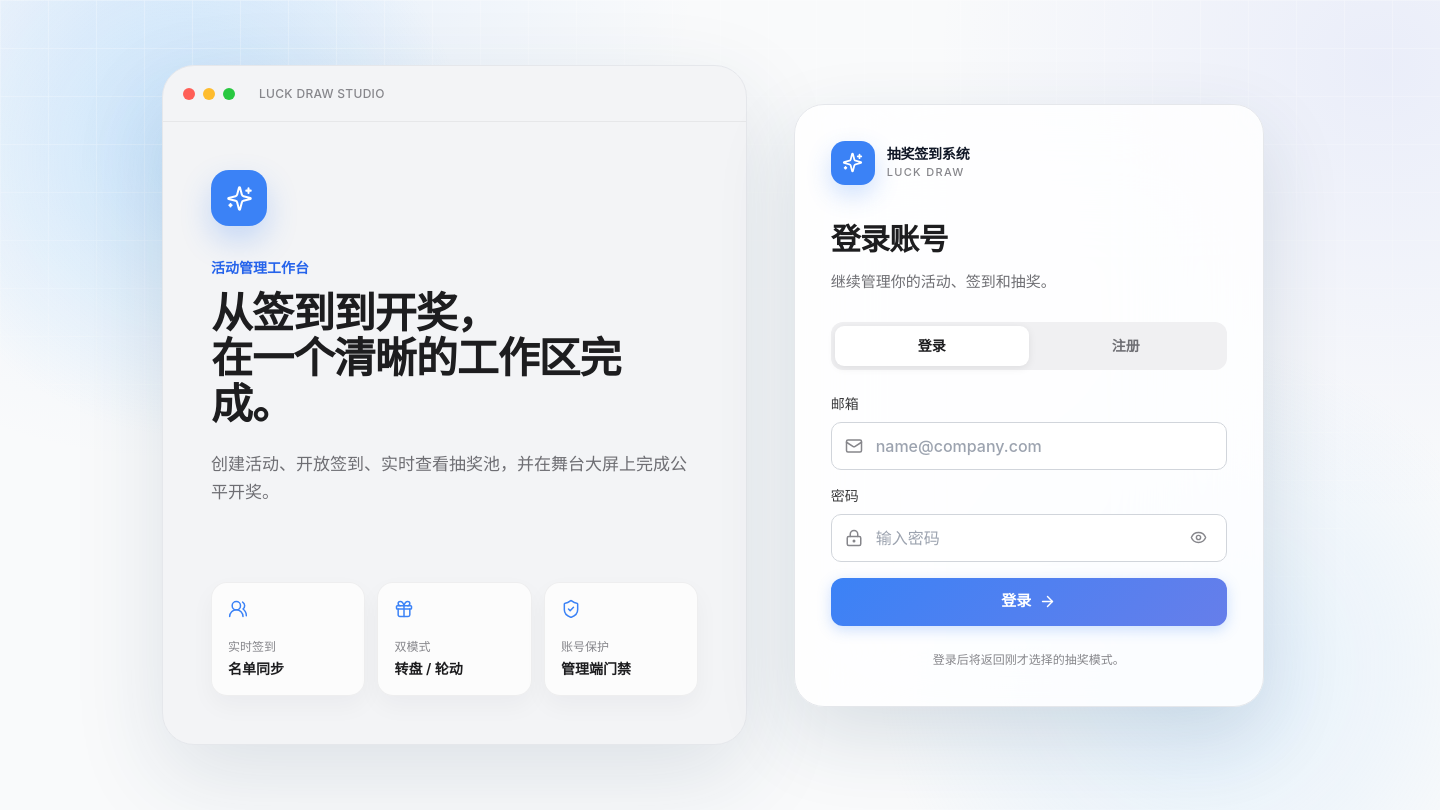
Test: LoginPage › shows a friendly message when login credentials are invalid
Step 1. Type "user@example.com" into the field labelled "邮箱" → (1029, 446), box [831,422,1227,470]
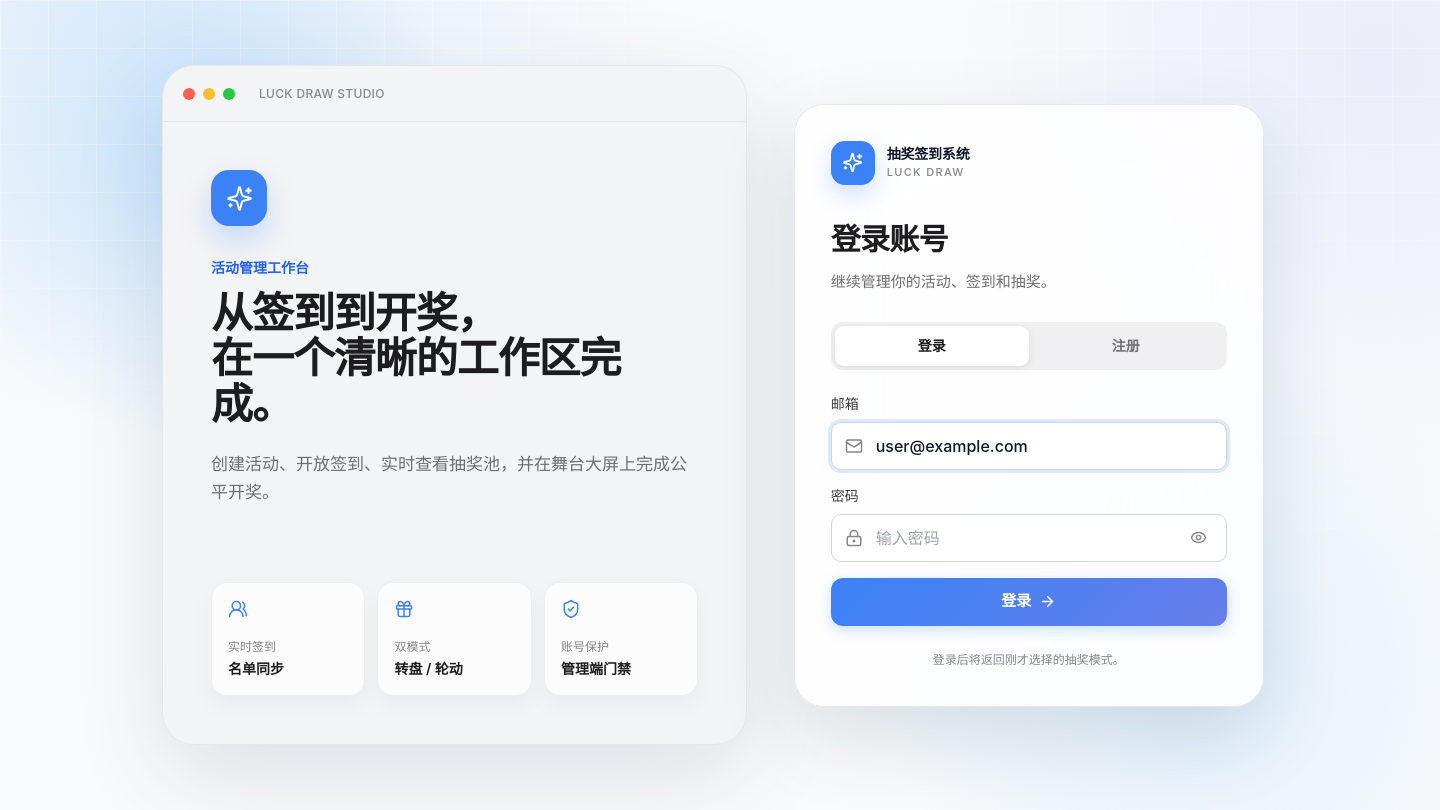
Step 2. Type "Password123" into the password field labelled "密码" → (1029, 538), box [831,514,1227,562]
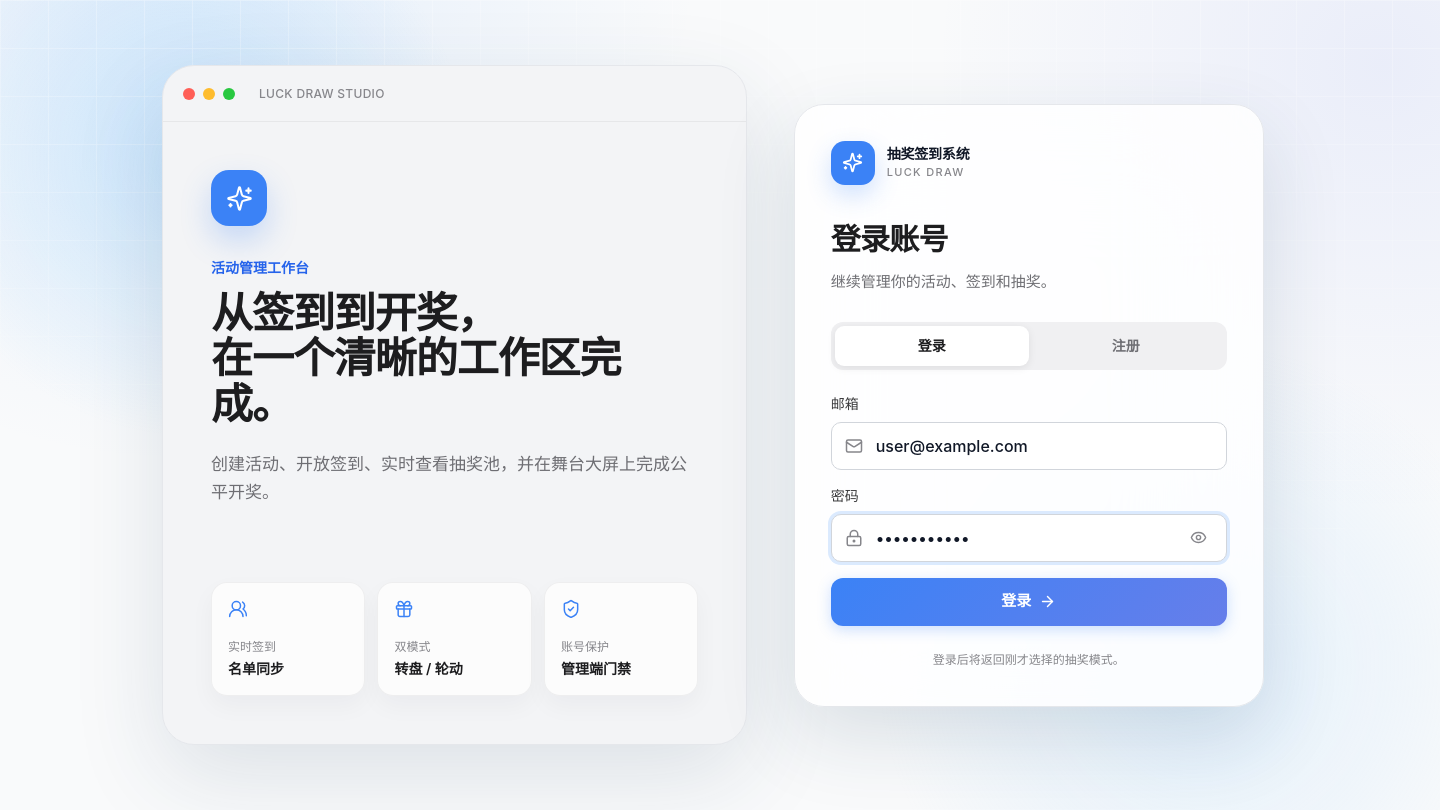
Step 3. Click the button "登录" below "密码" → (1029, 602), box [831,578,1227,626]
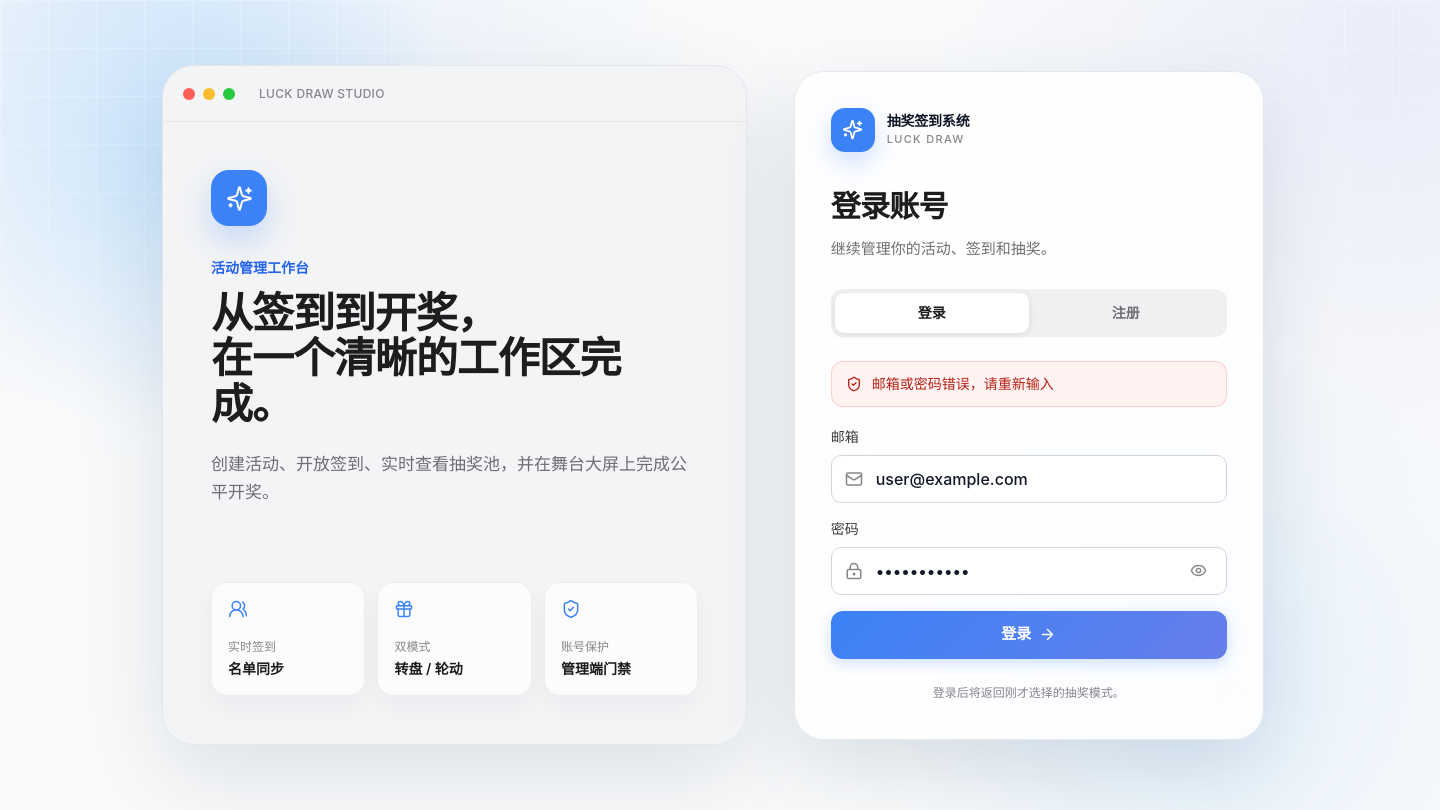
Now the text "邮箱或密码错误，请重新输入" is shown, box [872,374,1054,394]
